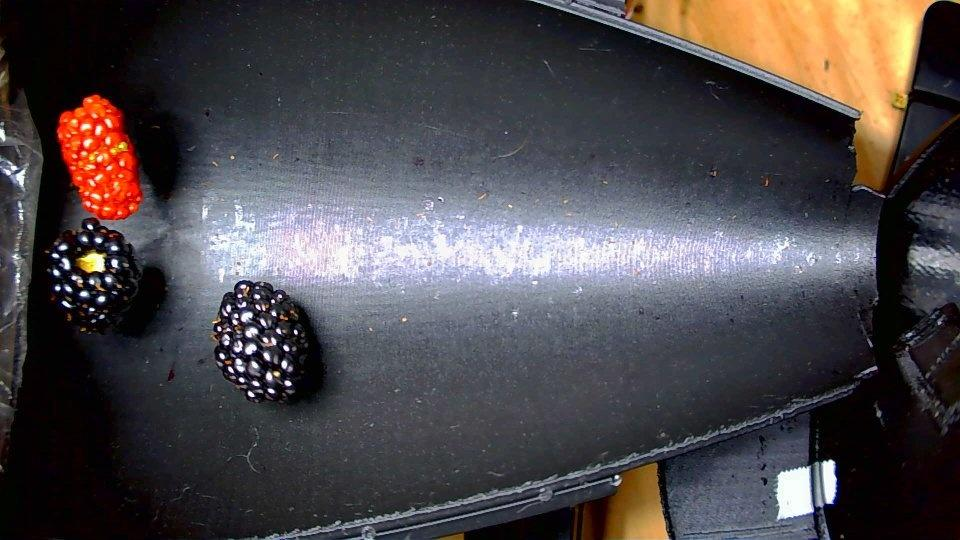berry: (213, 281, 310, 401), (48, 217, 140, 332), (57, 95, 141, 219)
